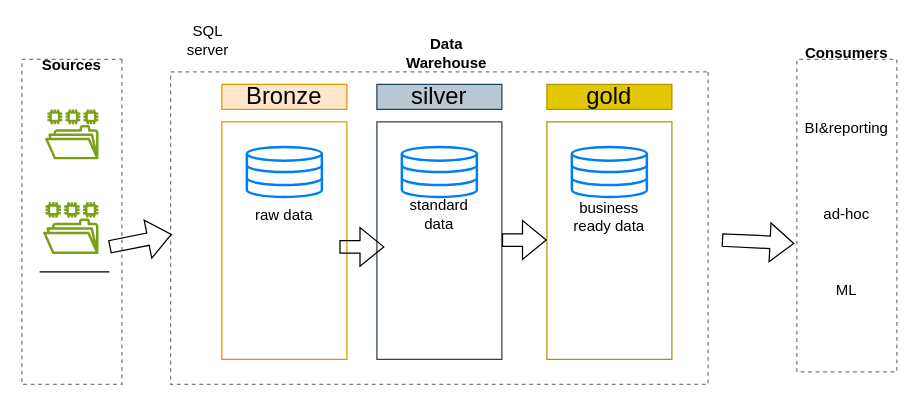
This 919x406 diagram has some shape labels left out. Each missing label, with the centre of its shape:
CRM: (x=71, y=134)
ERP: (x=70, y=227)
